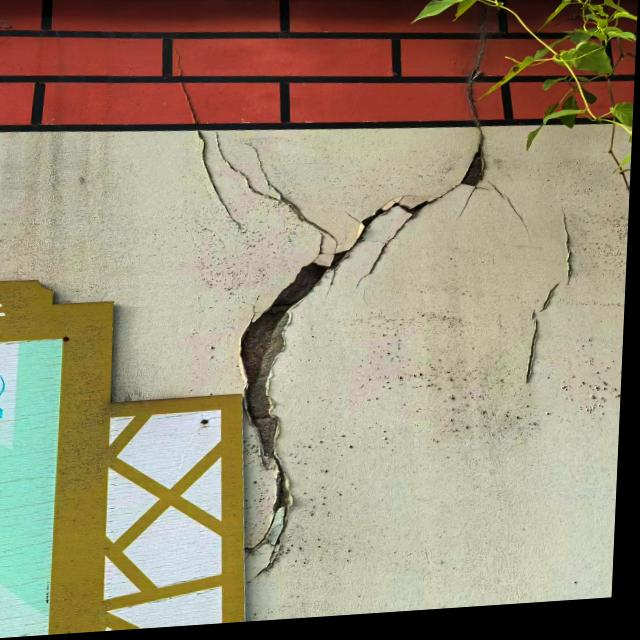crack: (168, 29, 339, 249), (518, 204, 581, 389), (243, 506, 295, 591), (463, 27, 498, 140)
spalling: (226, 192, 438, 527), (460, 132, 492, 190)
